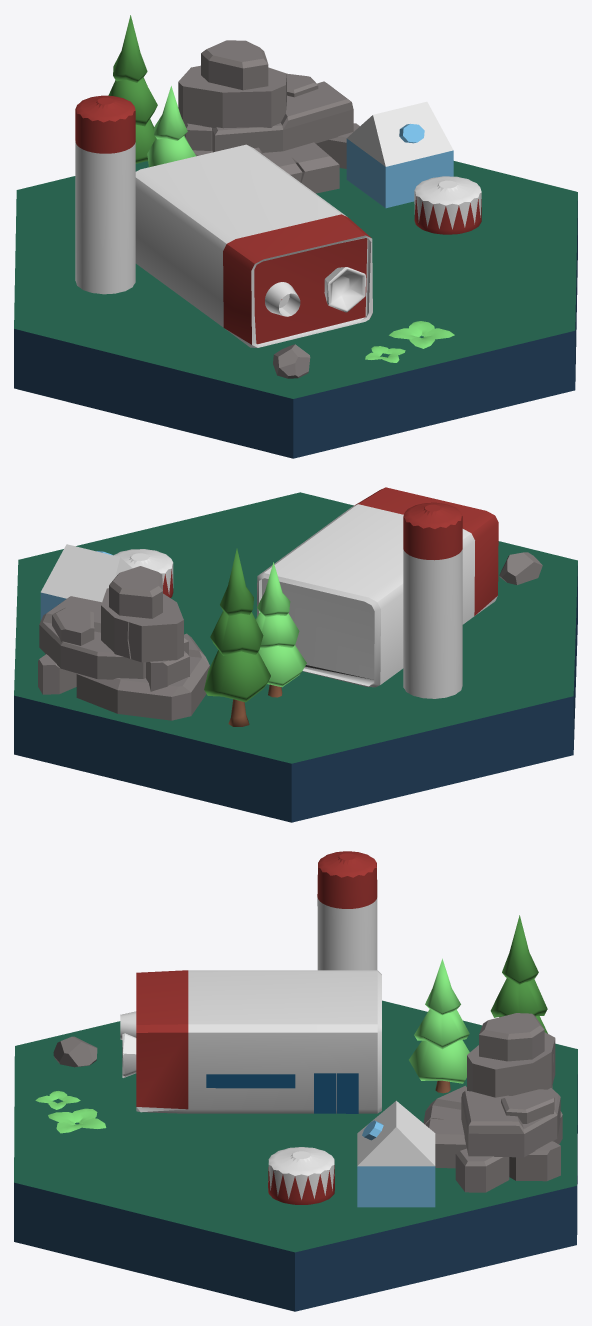
Rendered from Macro - Electric lvl 1 WM1.fbx.
3 views of the same model, one above another, from view 1: azimuth 30°, elevation 25°; view 2: azimuth 150°, elevation 25°; view 3: azimuth 270°, elevation 25° (orthographic).
Parts seen in each view (by area): view 1: Cylinder.154, Cube battery.011, Rock Type1 02 mesh.013, Cylinder battery.005, milkbox1.011, Cylinder battery.001, Tree_Spruce_tiny_01.002, Tree_Spruce_tiny_01.001, Rock Type2 04 mesh.005, Plane.011; view 2: Cylinder.154, Cube battery.011, Rock Type1 02 mesh.013, Cylinder battery.005, Tree_Spruce_tiny_01.002, Tree_Spruce_tiny_01.001, milkbox1.011, Cylinder battery.001, Rock Type2 04 mesh.005; view 3: Cylinder.154, Cube battery.011, Rock Type1 02 mesh.013, milkbox1.011, Cylinder battery.005, Tree_Spruce_tiny_01.001, Cylinder battery.001, Tree_Spruce_tiny_01.002, Plane.002, Rock Type2 04 mesh.005, Plane.001, Plane.011 (+1 smaller).
Boxes of the visible parts, x1,y1,x2,y2 form: Cylinder.154: (14,161,577,458); Cube battery.011: (135,144,372,347); Rock Type1 02 mesh.013: (178,40,359,193); Cylinder battery.005: (75,95,135,294); milkbox1.011: (346,101,453,208); Cylinder battery.001: (414,176,481,234); Tree_Spruce_tiny_01.002: (108,15,157,163); Tree_Spruce_tiny_01.001: (147,86,196,167); Rock Type2 04 mesh.005: (273,344,310,378); Plane.011: (389,321,454,348); Cylinder.154: (14,492,577,822); Cube battery.011: (257,487,498,687); Rock Type1 02 mesh.013: (38,566,209,720); Cylinder battery.005: (403,502,462,698); Tree_Spruce_tiny_01.002: (204,548,270,726); Tree_Spruce_tiny_01.001: (255,562,306,697); milkbox1.011: (40,544,132,620); Cylinder battery.001: (113,549,173,597); Rock Type2 04 mesh.005: (499,552,542,584); Cylinder.154: (14,1000,577,1311); Cube battery.011: (120,970,381,1113); Rock Type1 02 mesh.013: (423,1013,562,1192); milkbox1.011: (357,1100,435,1207); Cylinder battery.005: (317,851,377,970); Tree_Spruce_tiny_01.001: (409,958,469,1093); Cylinder battery.001: (268,1147,334,1204); Tree_Spruce_tiny_01.002: (490,915,547,1033); Plane.002: (206,1074,295,1088); Rock Type2 04 mesh.005: (53,1036,97,1067); Plane.001: (336,1073,358,1113); Plane.011: (48,1108,106,1133).
Bounding box in the file's own units: 197 × 80.5 × 172.
